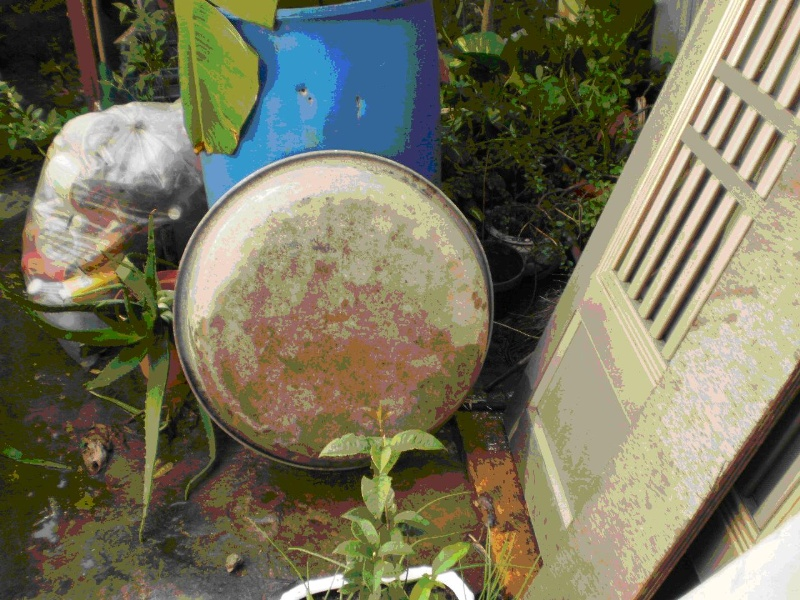bowl: (173, 147, 495, 473)
plastic_bag: (18, 99, 208, 345)
